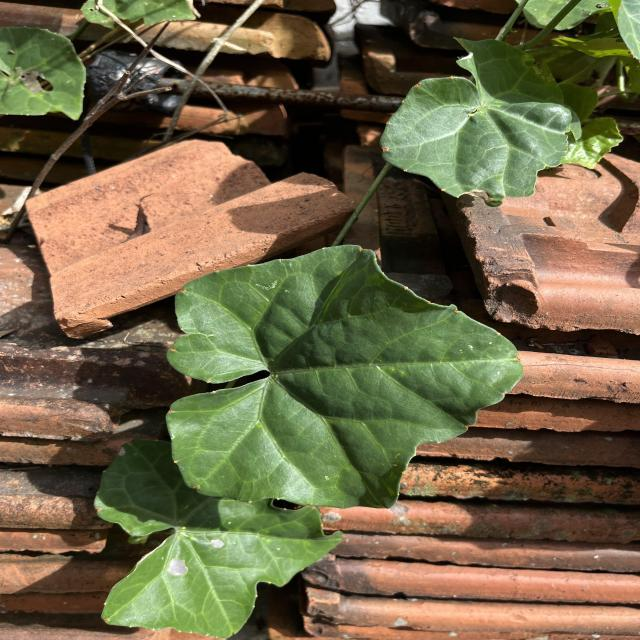Coccinia grandis: (165, 242, 524, 510)
